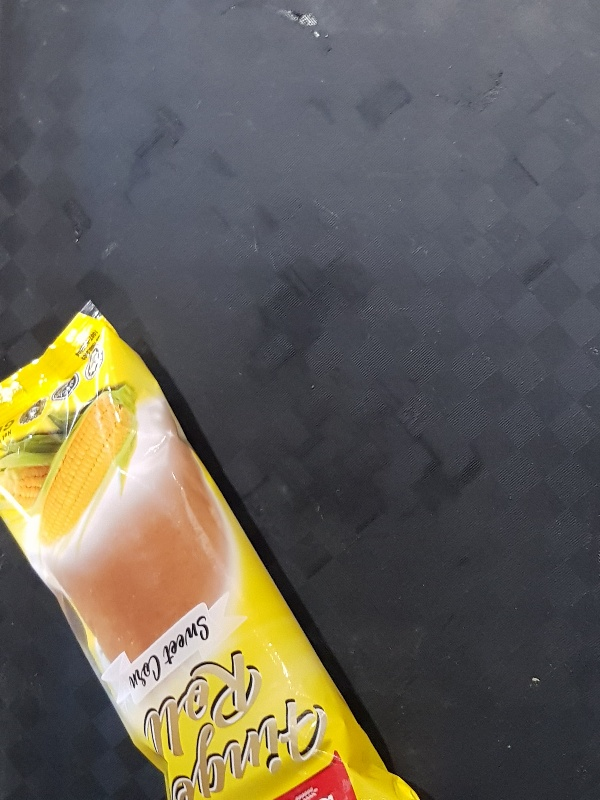Tinges Roll Sweet Corn: (1, 296, 419, 800)
